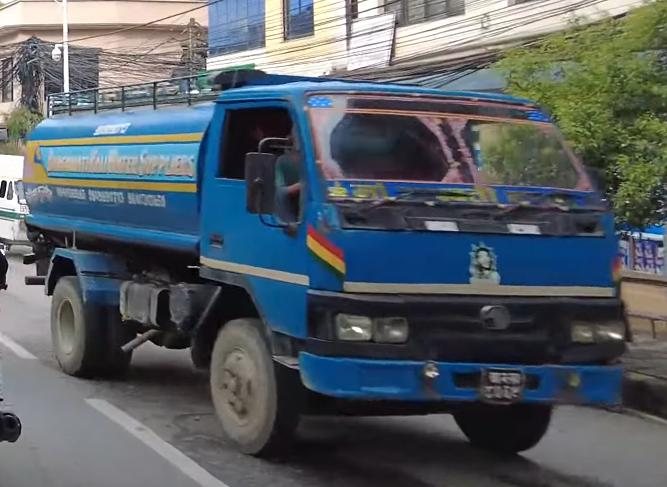mini_truck: (20, 62, 641, 462)
